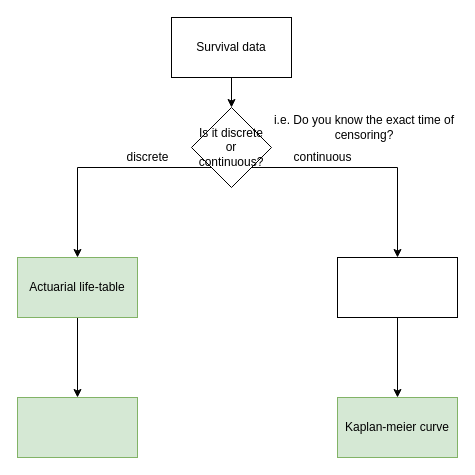
Some shapes in this 475 by 475 pixel diagram are drawn without their labels. The centre of each missing label's shape, as x and y in pixels:
Kaplan-Meier method life-table: [397,287]
Survival curve: [77,427]
